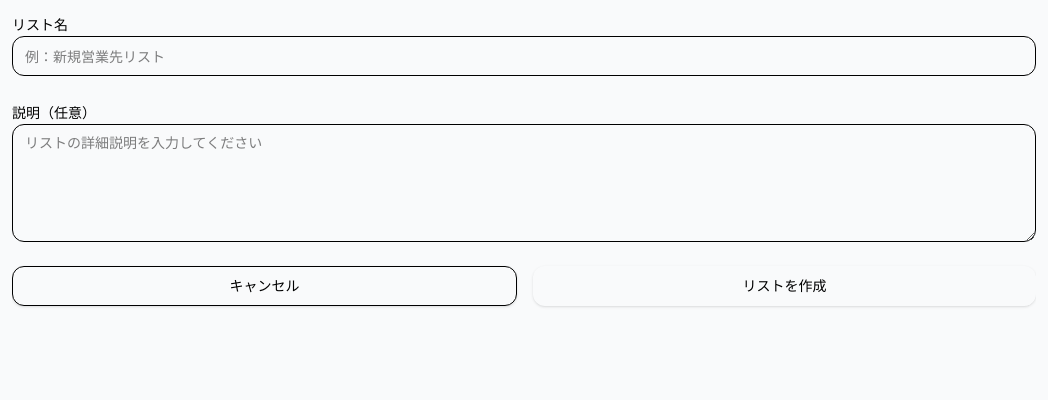
Test: ListForm › フォーム送信 › 送信エラー時にエラーメッセージが表示される
Type "テストリスト" into the field labelled "リスト名" at (524, 56), box [12, 36, 1036, 76]
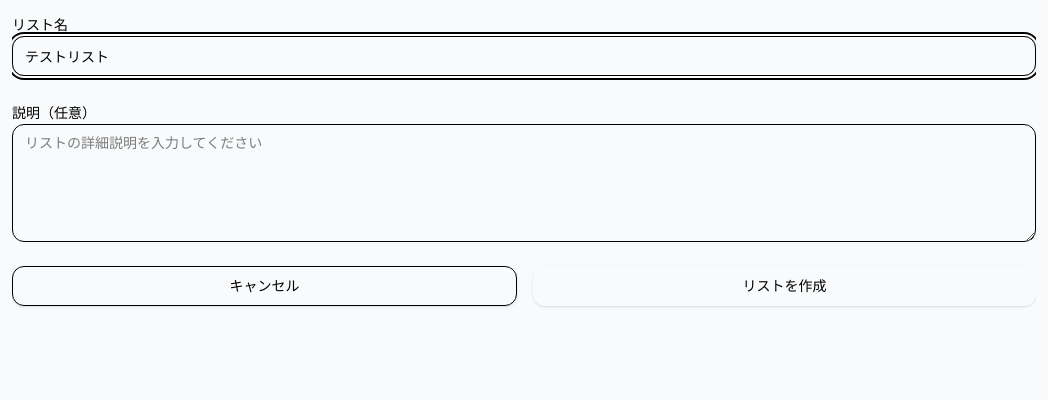
Click the button "リストを作成" at (784, 286), box [533, 266, 1036, 306]
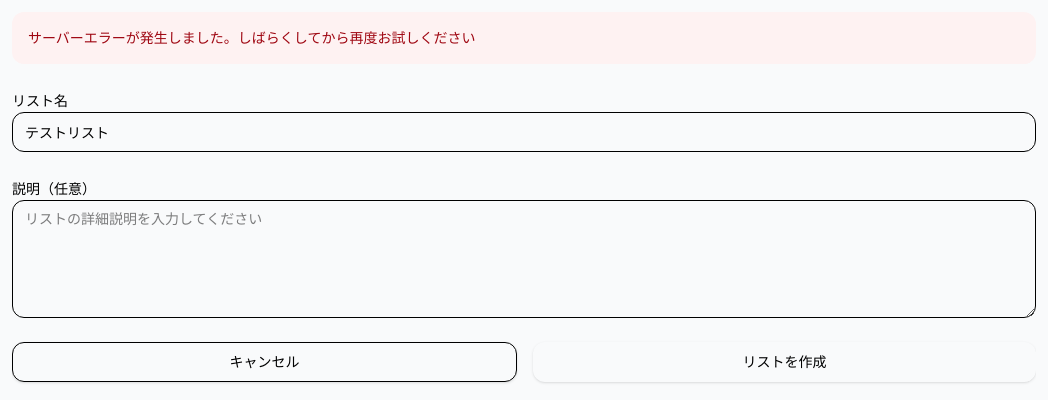
Expected: the message reads "サーバーエラーが発生しました。しばらくしてから再度お試しください", [28, 28, 476, 47]
